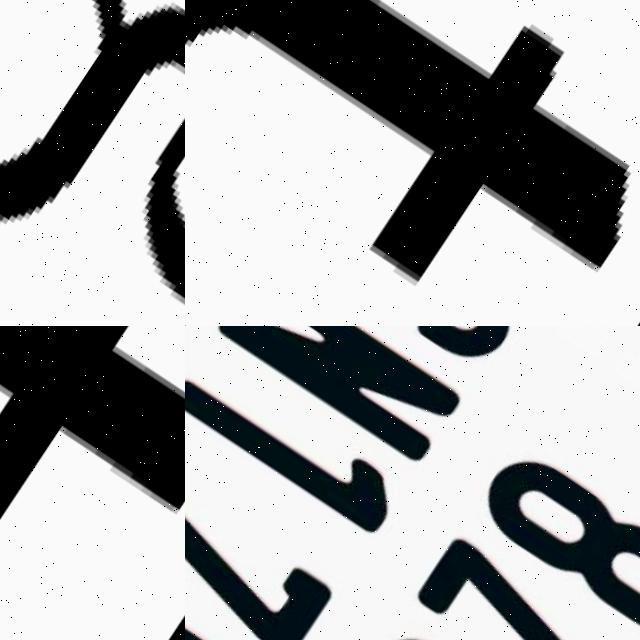1: (185, 350, 406, 539)
7: (185, 453, 338, 640)
8: (466, 437, 640, 640)
G: (0, 0, 185, 326), (269, 326, 529, 379)
N: (202, 326, 463, 468)
P: (185, 547, 273, 640)
T: (185, 0, 640, 326), (0, 326, 185, 625)
Z: (410, 529, 640, 640)
